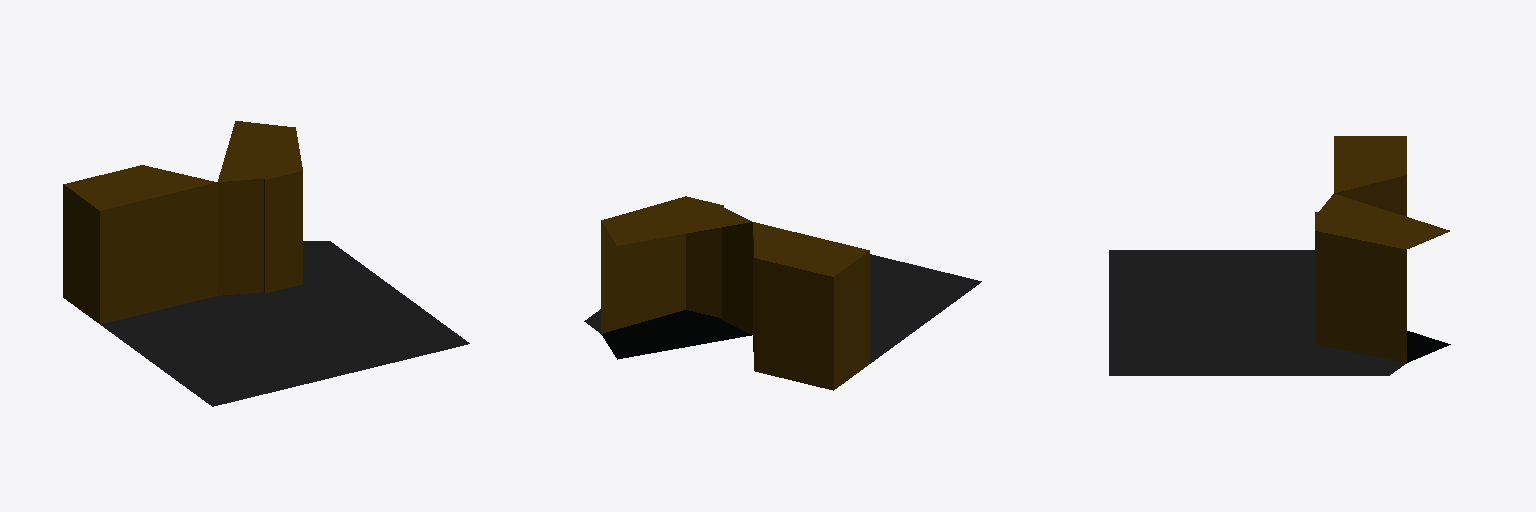
File: city_carls_n.obj
3 renders of one model, left to right at view 1: azimuth 30°, elevation 25°; view 2: azimuth 150°, elevation 25°; view 3: azimuth 270°, elevation 25°, orthographic.
Visible parts, largest first — view 1: city_carls_n_Plane.004; view 2: city_carls_n_Plane.004; view 3: city_carls_n_Plane.004.
Boxes of the visible parts, <box> form: city_carls_n_Plane.004: <box>63,121,469,406</box>; city_carls_n_Plane.004: <box>584,196,981,390</box>; city_carls_n_Plane.004: <box>1109,136,1450,375</box>.
Size of the model in its own units: 1.6 by 0.672 by 1.84.